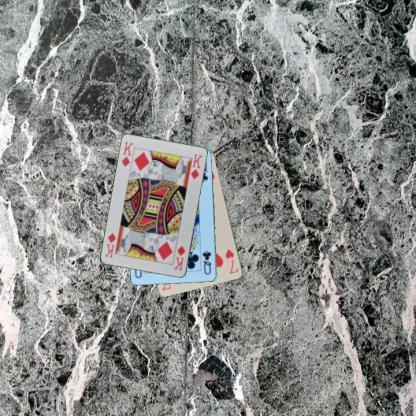7h: (223, 246, 240, 276)
Kd: (119, 139, 134, 168), (172, 243, 186, 272)
Qc: (200, 249, 213, 276)
